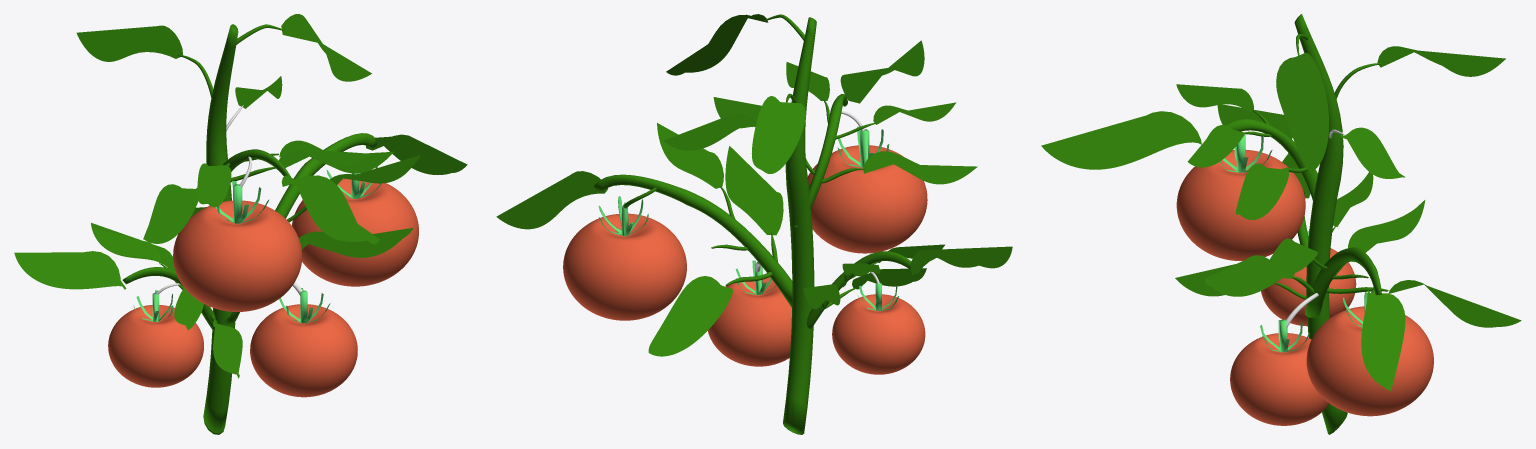
Rendered from tomato4newOutput.fbx.
The picture shows the model from 3 angles, left to right: view 1: azimuth 30°, elevation 25°; view 2: azimuth 150°, elevation 25°; view 3: azimuth 270°, elevation 25°; orthographic projection. The views are drawn at different scales.
Parts seen in each view (by area): view 1: Circle.016, BezierCurve.012, BezierCurve.002; view 2: Circle.016, BezierCurve.002, BezierCurve.012; view 3: Circle.016, BezierCurve.002.
Part boxes in pixels (x1,y1,x2,y2): Circle.016: [14, 14, 467, 434]; BezierCurve.012: [122, 267, 215, 331]; BezierCurve.002: [223, 149, 290, 201]; Circle.016: [496, 14, 1012, 434]; BezierCurve.002: [794, 94, 847, 227]; BezierCurve.012: [806, 251, 911, 328]; Circle.016: [1041, 14, 1521, 434]; BezierCurve.002: [1225, 118, 1334, 217].
Bounding box in the file's own units: 1020 × 832 × 864.
